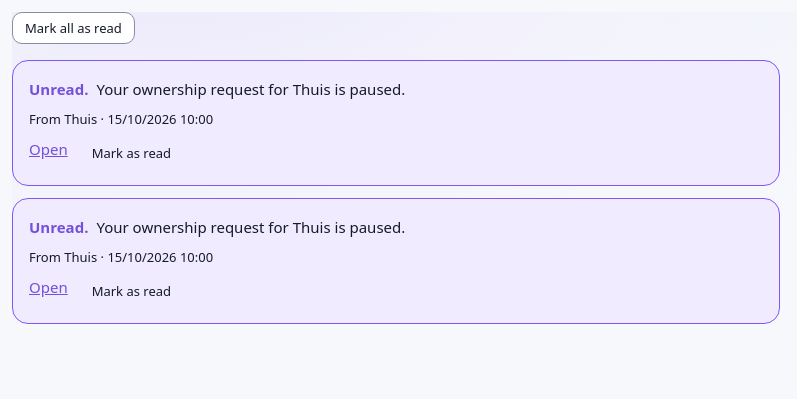
Scenario: NotificationList › marks everything read, announcing it
Click the button "Mark all as read".
click(73, 28)  # box x1=12 y1=12 x2=135 y2=44
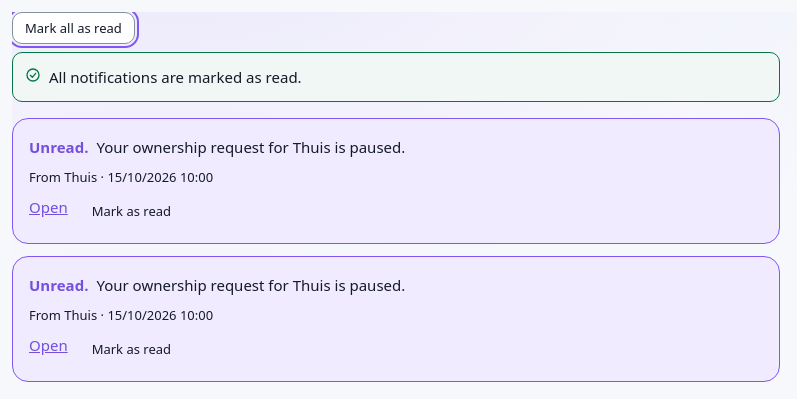
Expected: the message reads "All notifications are marked as read.", x1=49 y1=67 x2=302 y2=87
